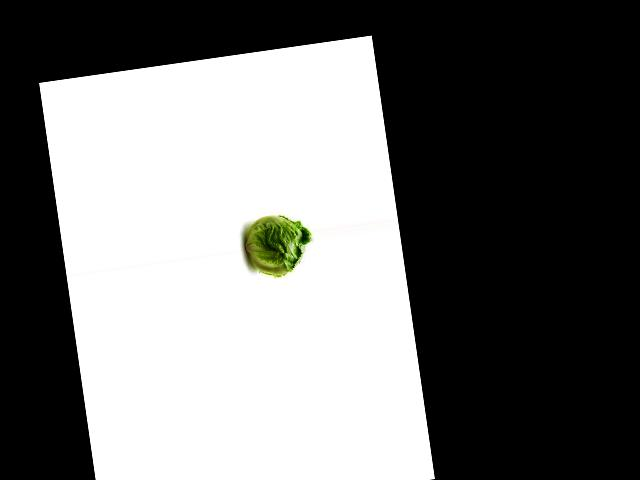lettuce: (238, 208, 317, 287)
